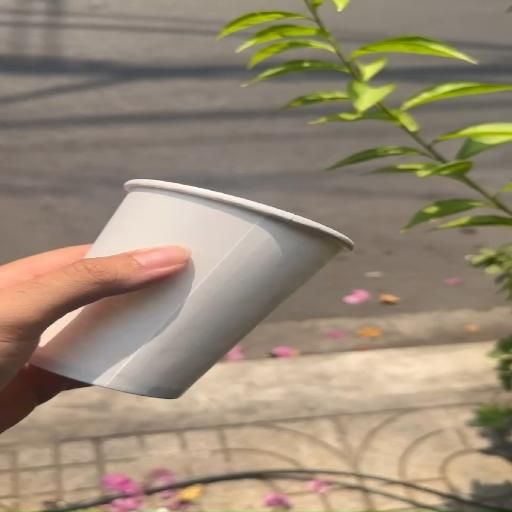Ly_giay: (31, 179, 352, 398)
